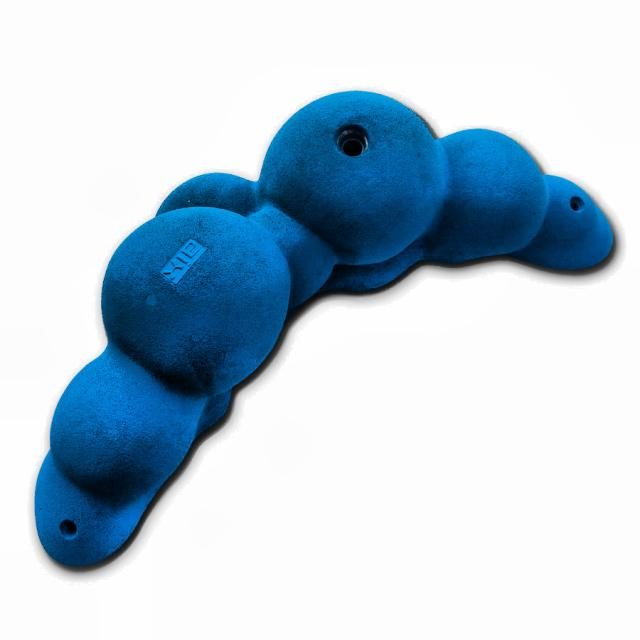Hold: (10, 52, 634, 586)
